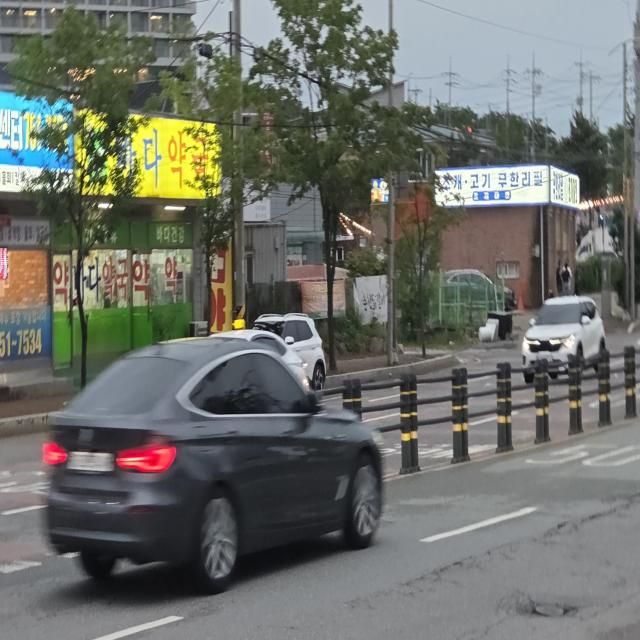car: (45, 318, 391, 606), (512, 280, 618, 390), (235, 299, 329, 415)
